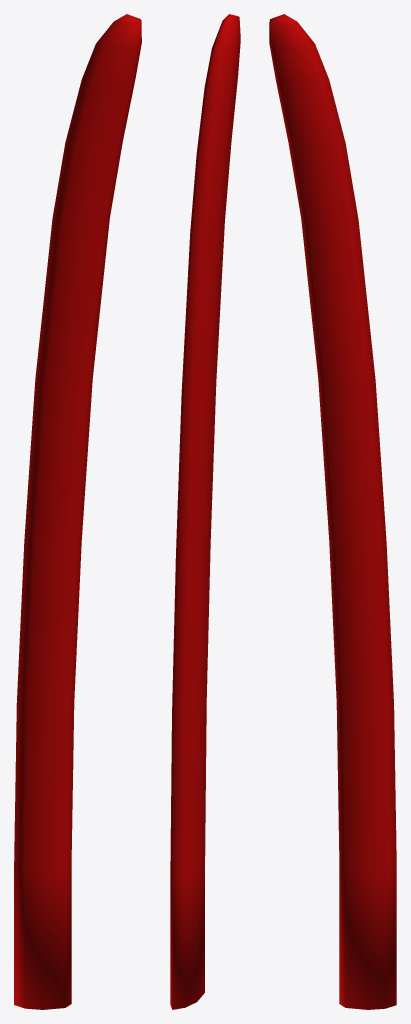
Rendered from Sword_katana_scabard_mesh.fbx.
3 views of the same model, side by side, from view 1: azimuth 90°, elevation 25°; view 2: azimuth 150°, elevation 25°; view 3: azimuth 270°, elevation 25° (orthographic). The views are drawn at different scales.
Parts seen in each view (by area): view 1: Katana_scabard_mesh; view 2: Katana_scabard_mesh; view 3: Katana_scabard_mesh.
Boxes of the visible parts, x1=… form: Katana_scabard_mesh: x1=14, y1=14, x2=141, y2=1009; Katana_scabard_mesh: x1=170, y1=14, x2=240, y2=1009; Katana_scabard_mesh: x1=269, y1=14, x2=396, y2=1009.
Size of the model in its own units: 2.75 by 12.44 by 107.
